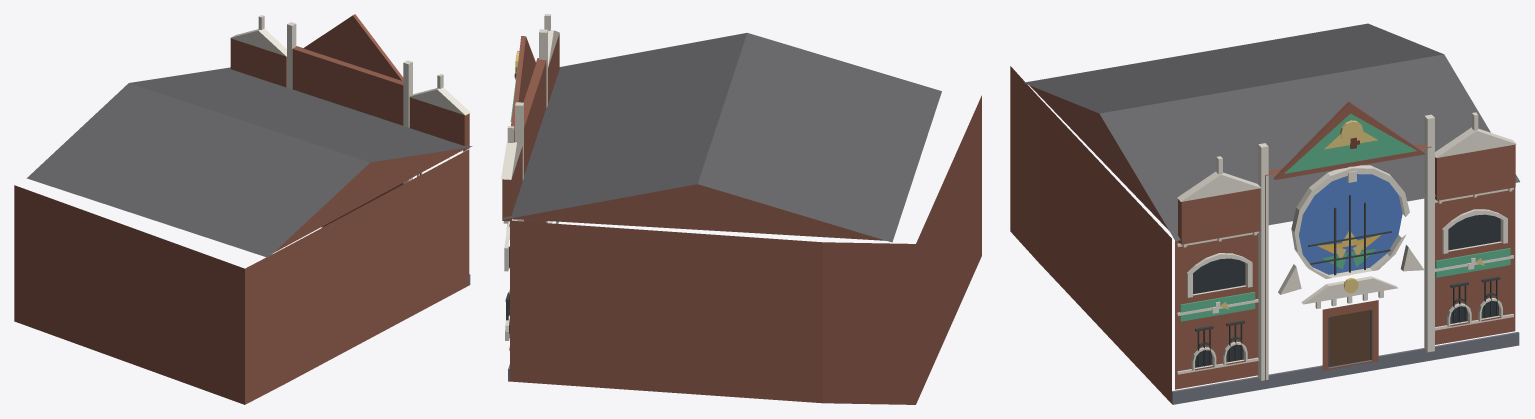
The picture shows the model from 3 angles, left to right: view 1: azimuth 30°, elevation 25°; view 2: azimuth 150°, elevation 25°; view 3: azimuth 270°, elevation 25°; orthographic projection. The views are drawn at different scales.
Size of the model in its own units: 19.13 by 10.85 by 18.12.
